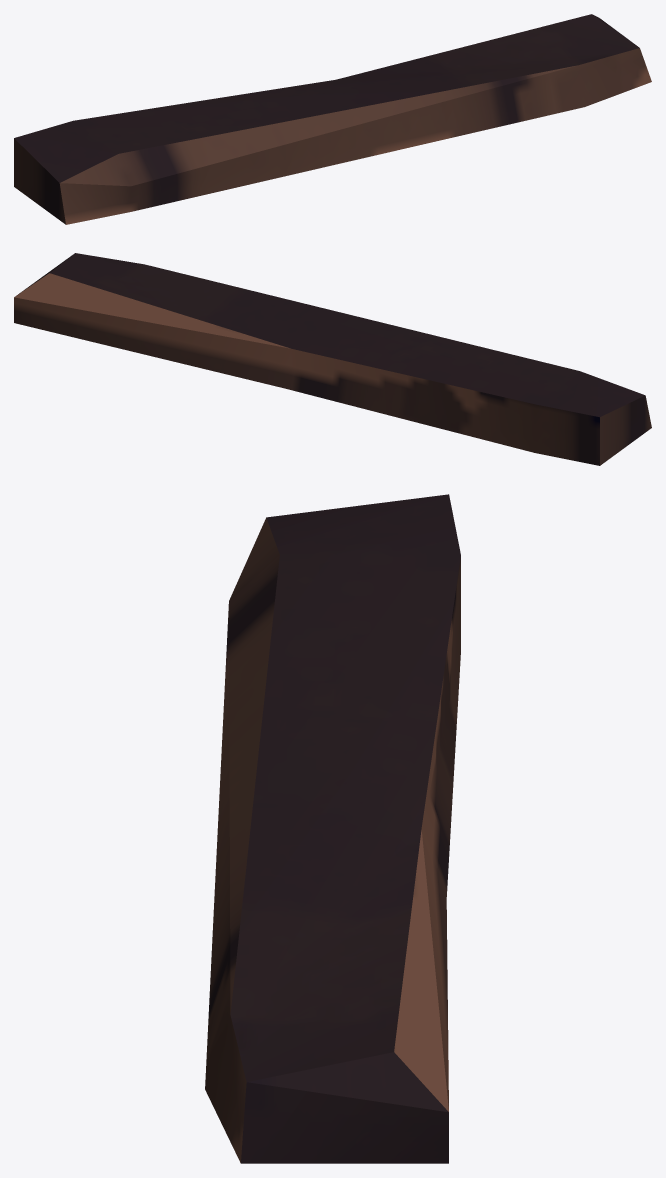
File: bridge_08.FBX
3 renders of one model, top to bottom at view 1: azimuth 30°, elevation 25°; view 2: azimuth 150°, elevation 25°; view 3: azimuth 270°, elevation 25°, orthographic. The views are drawn at different scales.
Visible parts, largest first — view 1: bridge_08; view 2: bridge_08; view 3: bridge_08.
Boxes of the visible parts, <box> form: bridge_08: <box>14,14,651,224</box>; bridge_08: <box>14,253,651,465</box>; bridge_08: <box>205,494,460,1163</box>.
Bounding box in the file's own units: 3.99 × 0.3166 × 0.7541.
